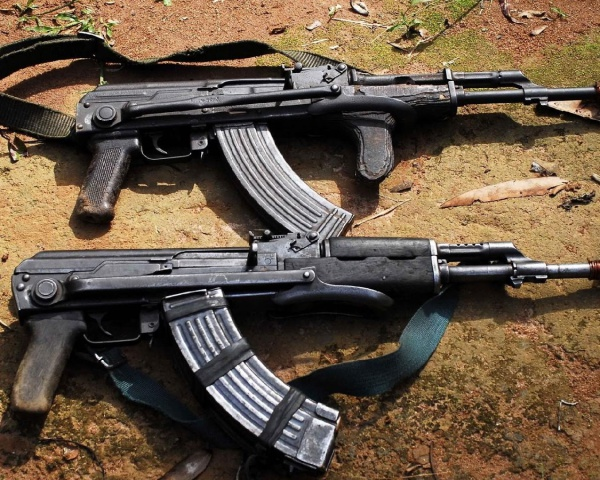ak47: (11, 239, 597, 460), (72, 66, 596, 233)
